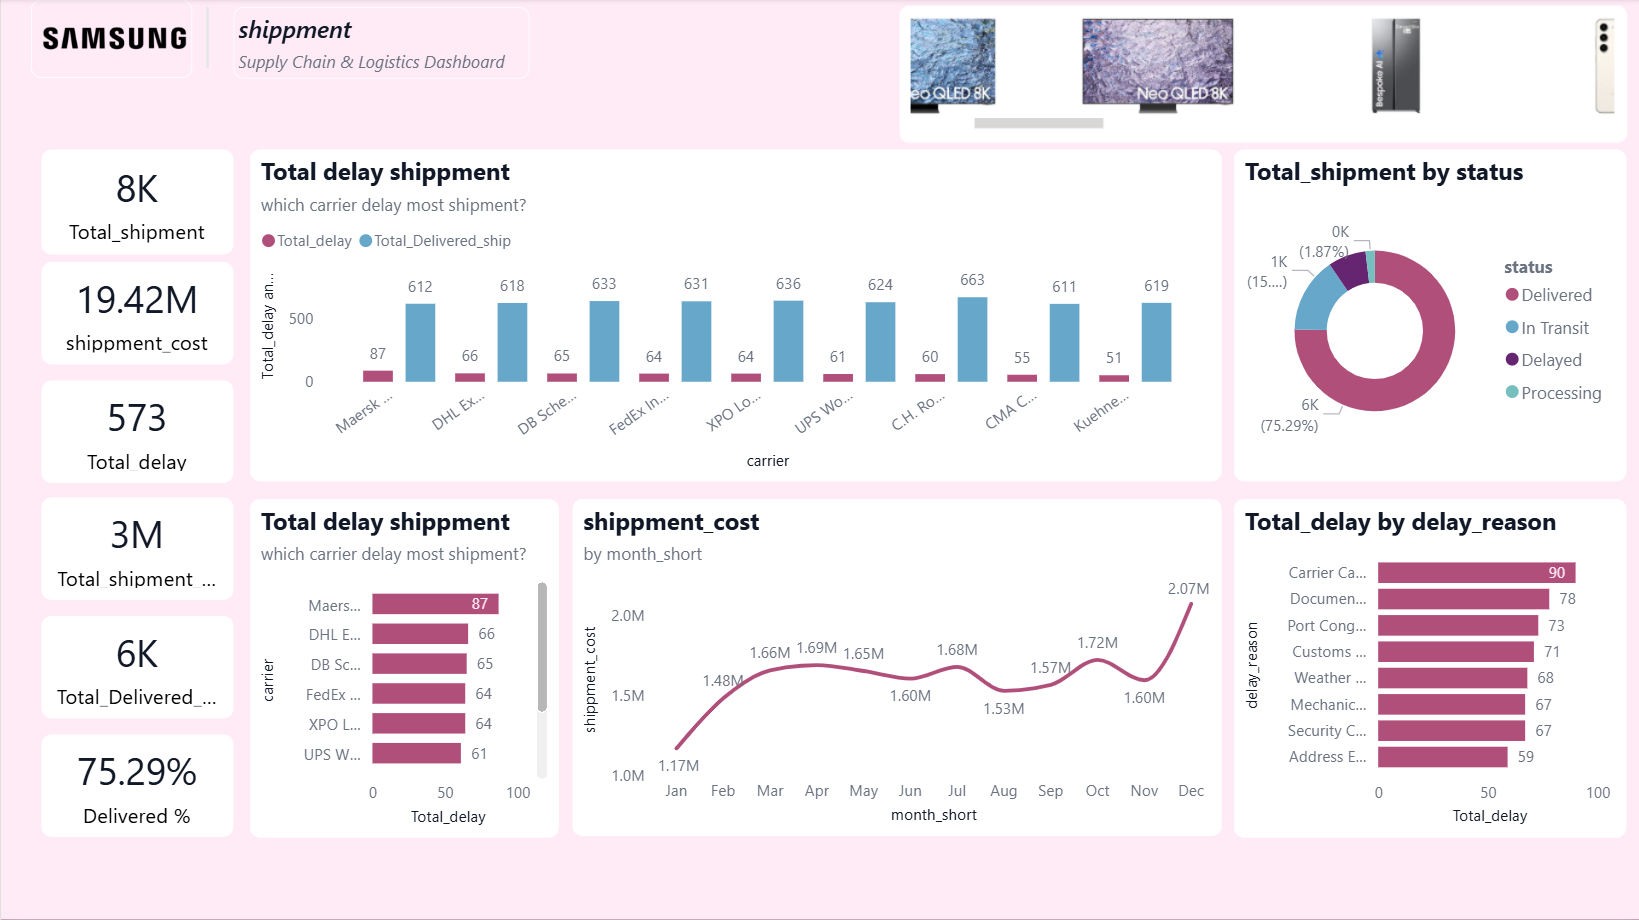

The dashboard page shown, as its layout file describes it:
{"tool":"powerbi","page":{"name":"Shipment","canvas":[1280,720],"ordinal":4},"visuals":[{"type":"shape","title":"shippment","box":[182,6.6,231.1,55.8],"z":0},{"type":"shape","box":[139.5,6.6,43.8,47.8],"z":1000},{"type":"image","box":[23.9,1.3,126.2,61.1],"z":2000},{"type":"card","fields":{"Values":["MeasureTable.shippment_cost"]},"box":[31.6,206.2,149.7,79.7],"z":3000},{"type":"card","fields":{"Values":["MeasureTable.Total_delay"]},"box":[31.6,298.5,149.7,79.7],"z":4000},{"type":"card","fields":{"Values":["MeasureTable.Total_shipment_quantity"]},"box":[31.6,390.9,149.7,79.7],"z":5000},{"type":"card","fields":{"Values":["MeasureTable.Total_Delivered_ship"]},"box":[31.6,483.2,149.7,79.7],"z":6000},{"type":"card","fields":{"Values":["MeasureTable.Delivered %"]},"box":[31.8,575.5,149.7,79.7],"z":7000},{"type":"card","fields":{"Values":["MeasureTable.Total_shipment"]},"box":[31.6,118.8,149.7,82.2],"z":8000},{"type":"clusteredBarChart","title":"Total delay shippment","fields":{"Category":["fact_shipment.carrier"],"Y":["MeasureTable.Total_delay"]},"box":[194.3,391.2,241.6,264.6],"z":9000},{"type":"clusteredColumnChart","title":"Total delay shippment","fields":{"Y":["MeasureTable.Total_delay","MeasureTable.Total_Delivered_ship"],"Category":["fact_shipment.carrier"]},"box":[194.3,118.9,759.3,259.5],"z":10000},{"type":"lineChart","fields":{"Y":["MeasureTable.shippment_cost"],"Category":["dim_date.month_short"]},"box":[446.1,391.2,507.5,263.3],"z":11000},{"type":"clusteredBarChart","fields":{"Category":["fact_shipment.delay_reason"],"Y":["MeasureTable.Total_delay"]},"box":[963.8,391.2,306.8,264.6],"z":12000},{"type":"donutChart","fields":{"Category":["fact_shipment.status"],"Y":["MeasureTable.Total_shipment"]},"box":[963.8,118.9,306.8,259.5],"z":13000},{"type":"advancedSlicerVisual","fields":{"Values":["dim_product.product_name"]},"box":[701.9,6.4,568.7,107.6],"z":14000}]}

Visuals, with their boxes in screenshot pixels (x1, y1, x2, y2), scaled from the page's 1280x720 canvas onto the 1639x920 screenshot:
"shippment" shape: x1=233 y1=8 x2=529 y2=80
shape: x1=179 y1=8 x2=235 y2=70
image: x1=31 y1=2 x2=192 y2=80
card - MeasureTable.shippment_cost: x1=40 y1=263 x2=232 y2=365
card - MeasureTable.Total_delay: x1=40 y1=381 x2=232 y2=483
card - MeasureTable.Total_shipment_quantity: x1=40 y1=499 x2=232 y2=601
card - MeasureTable.Total_Delivered_ship: x1=40 y1=617 x2=232 y2=719
card - MeasureTable.Delivered %: x1=41 y1=735 x2=232 y2=837
card - MeasureTable.Total_shipment: x1=40 y1=152 x2=232 y2=257
"Total delay shippment" clusteredBarChart: x1=249 y1=500 x2=558 y2=838
"Total delay shippment" clusteredColumnChart: x1=249 y1=152 x2=1221 y2=484
lineChart - MeasureTable.shippment_cost x dim_date.month_short: x1=571 y1=500 x2=1221 y2=836
clusteredBarChart - fact_shipment.delay_reason x MeasureTable.Total_delay: x1=1234 y1=500 x2=1627 y2=838
donutChart - fact_shipment.status x MeasureTable.Total_shipment: x1=1234 y1=152 x2=1627 y2=484
advancedSlicerVisual - dim_product.product_name: x1=899 y1=8 x2=1627 y2=146
